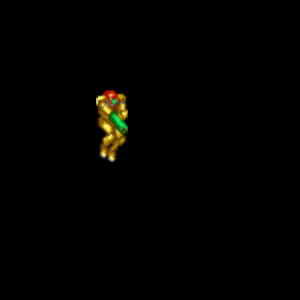Collectible: (96, 90, 128, 162)
